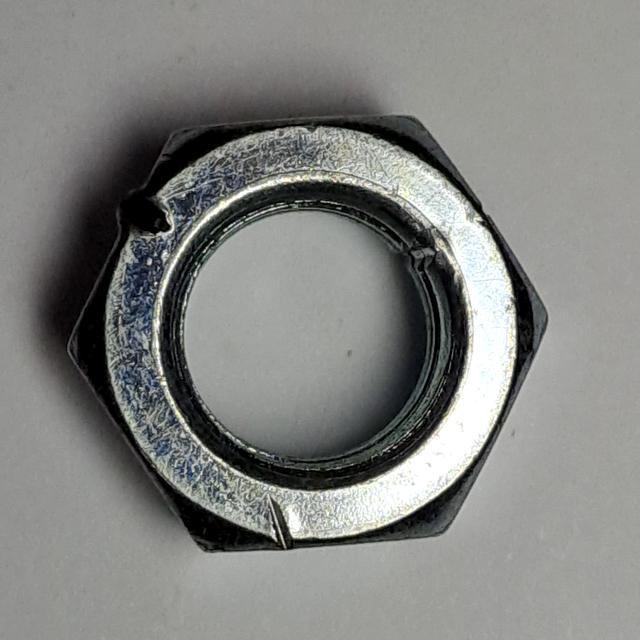Scratches: (60, 96, 563, 572)
